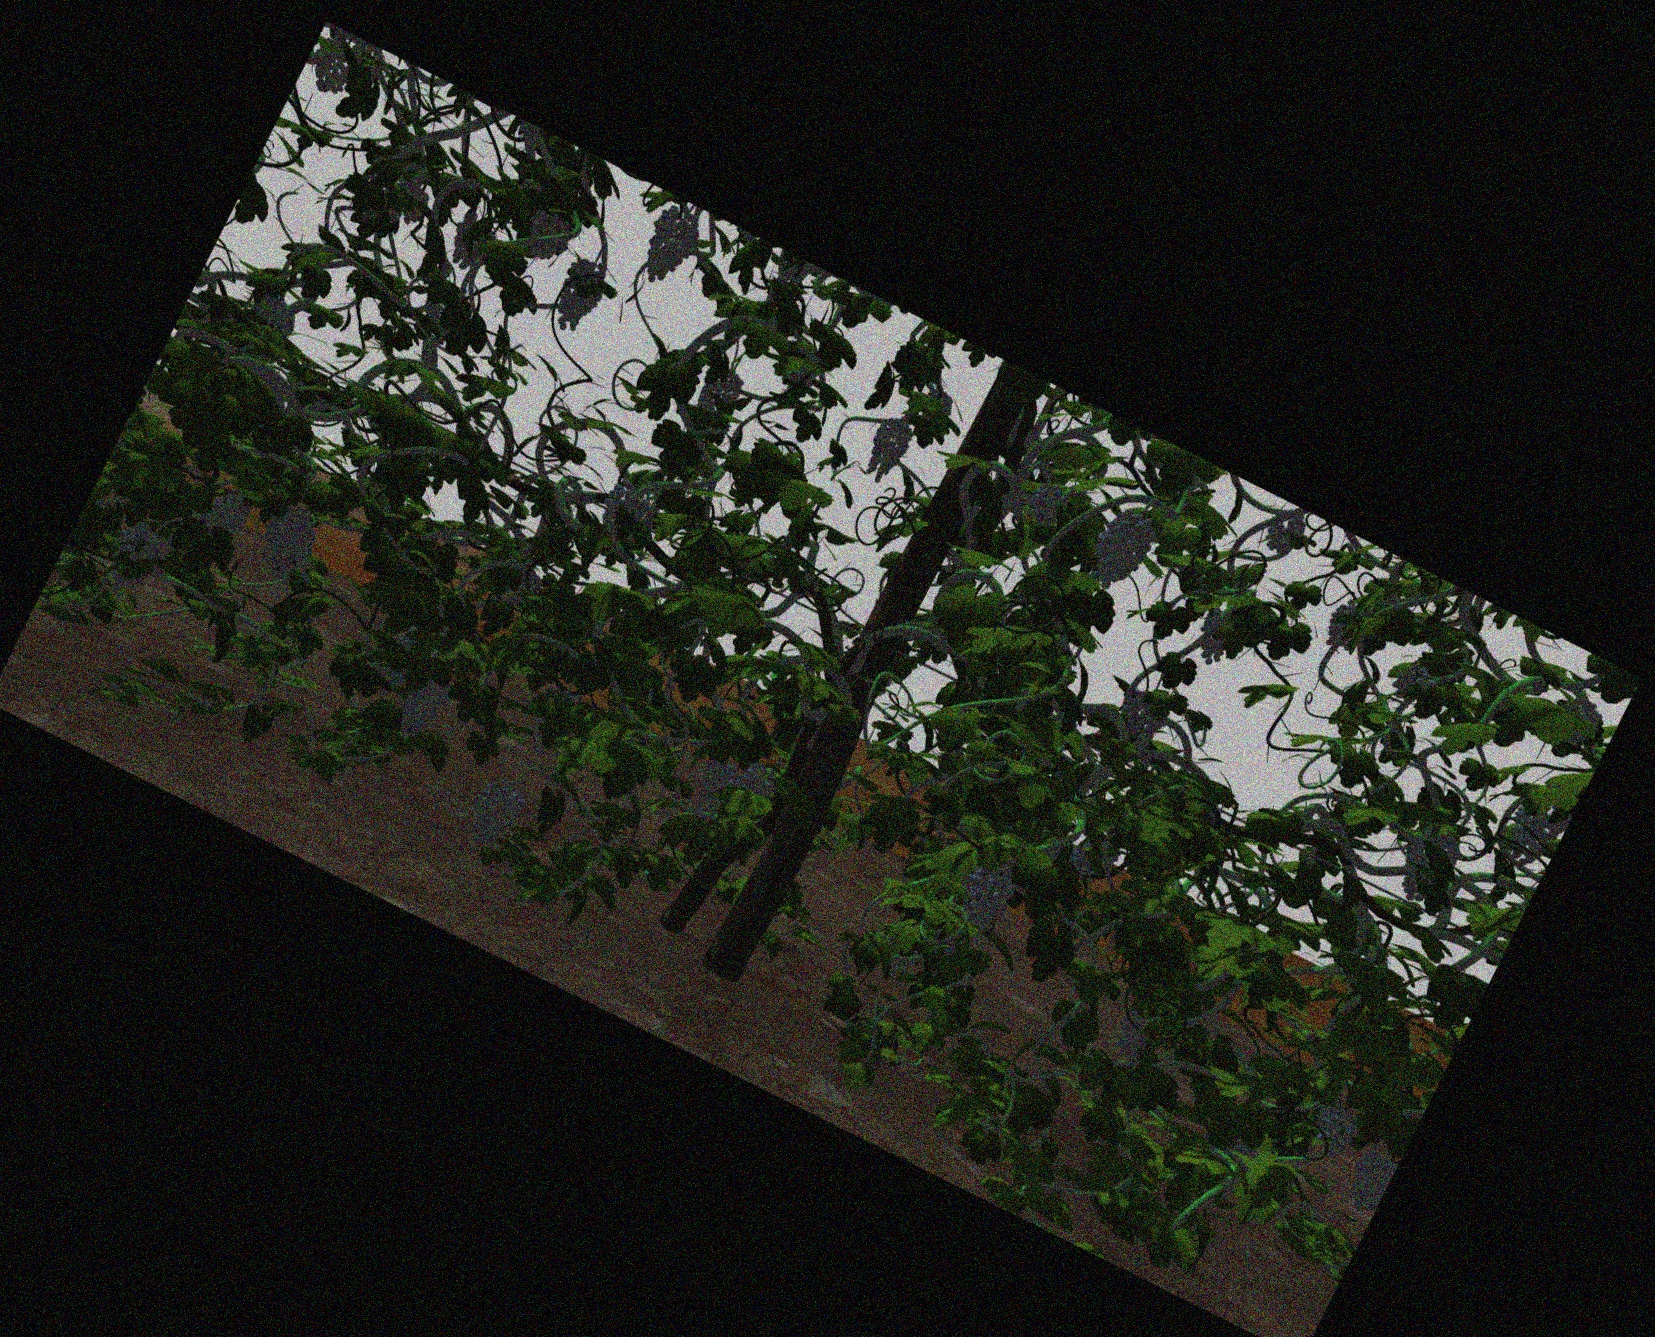grape: (1098, 506, 1146, 588), (263, 508, 312, 574), (645, 211, 690, 284), (555, 262, 599, 332), (115, 527, 160, 588), (963, 866, 1008, 926), (473, 783, 517, 844), (401, 674, 439, 742), (1502, 808, 1550, 862), (1349, 1143, 1383, 1213), (868, 419, 903, 482), (1112, 1012, 1156, 1063), (1314, 1104, 1353, 1158), (604, 480, 645, 531), (1120, 696, 1162, 744), (310, 48, 351, 93), (528, 214, 569, 258), (699, 761, 735, 809), (703, 368, 739, 413), (210, 494, 247, 533), (1269, 510, 1300, 555), (1031, 483, 1066, 523), (1394, 664, 1433, 696), (741, 763, 775, 797)
